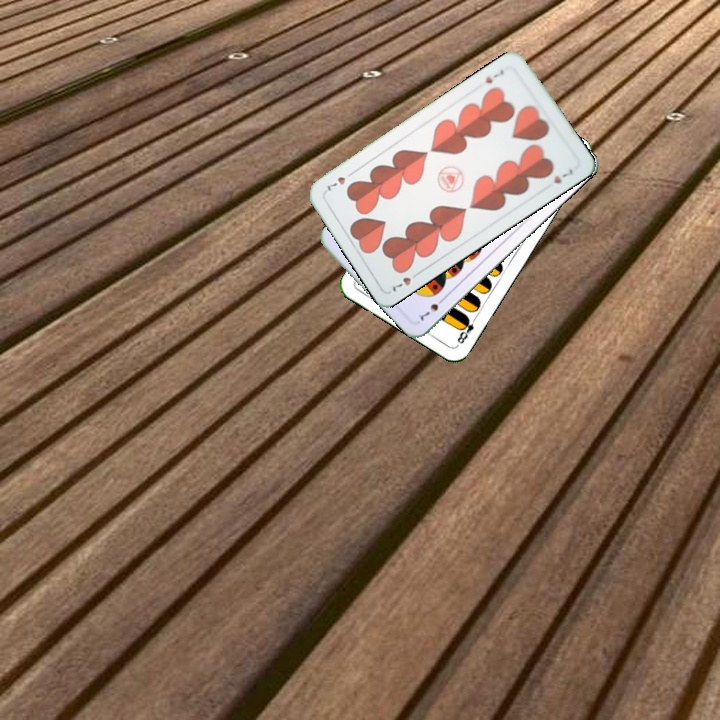E8: (453, 312, 480, 347)
H7: (388, 267, 423, 295), (481, 65, 507, 86)
S7: (414, 293, 448, 323)
